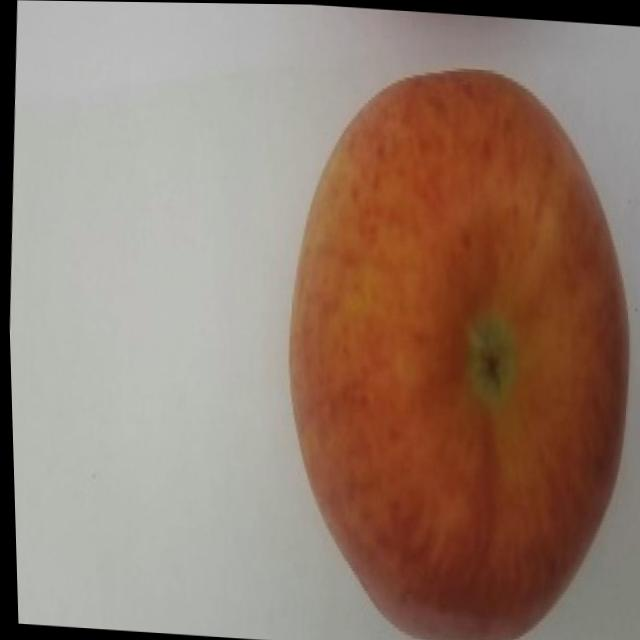Apple: (258, 50, 640, 640)
